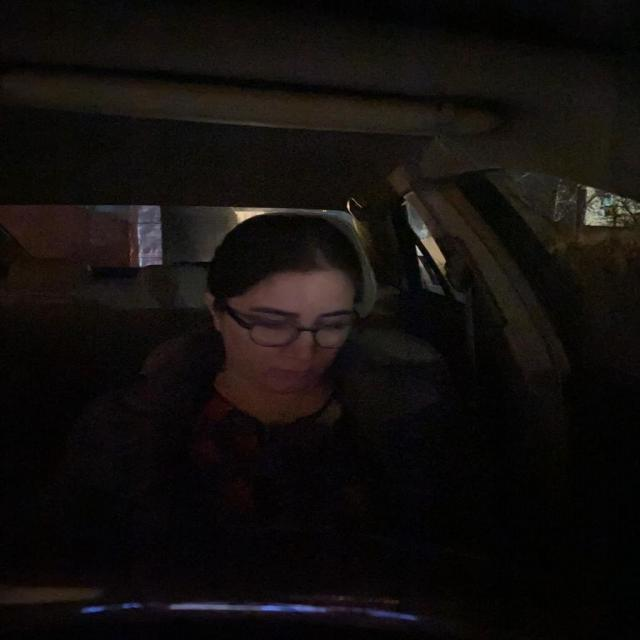drowsy: (210, 212, 373, 397)
